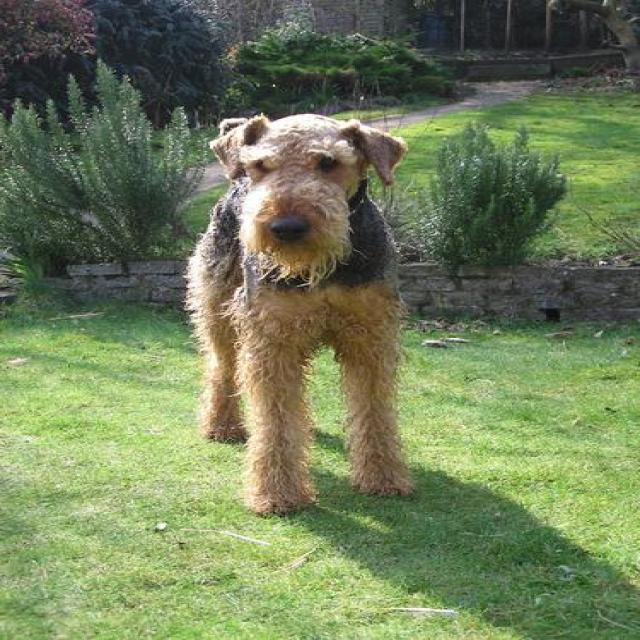airedale: (179, 109, 422, 516)
